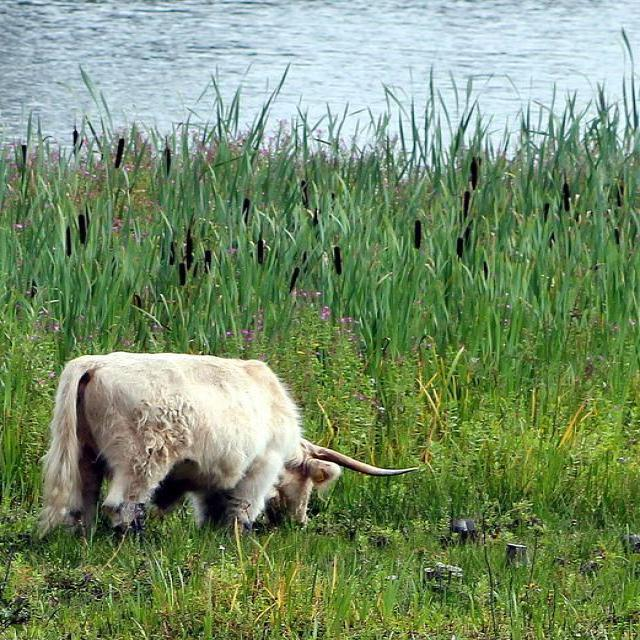Sheep: (36, 349, 423, 539)
